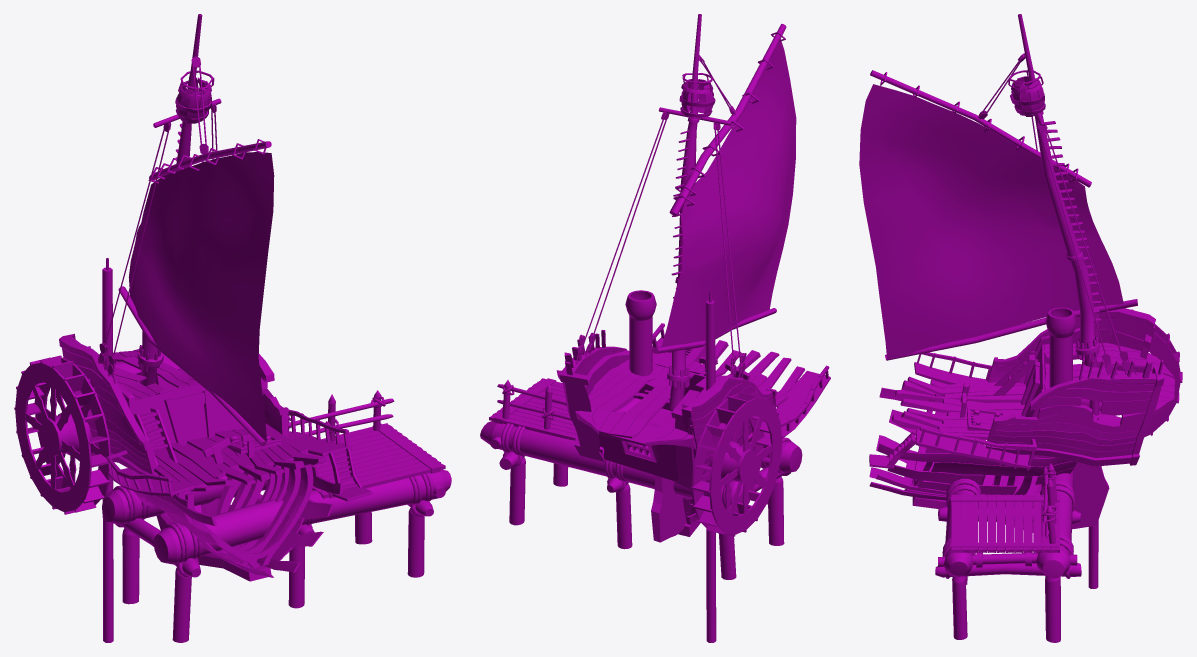
The model's file is Prefab_2.fbx.
3 views of the same model, side by side, from view 1: azimuth 30°, elevation 25°; view 2: azimuth 150°, elevation 25°; view 3: azimuth 270°, elevation 25° (orthographic). The views are drawn at different scales.
Parts seen in each view (by area): view 1: Sail_2, Prefab_2_polySurface769, loading_dock2, Mill_Wooden, Prefab_2_Steel_Band1, polySurface1213, Fence_Wood1; view 2: Sail_2, Prefab_2_polySurface769, loading_dock2, Mill_Wooden, Prefab_2_Steel_Band1, polySurface1213, Chimney, Fence_Wood1; view 3: Sail_2, Prefab_2_polySurface769, loading_dock2, Prefab_2_Steel_Band1, Chimney, Mill_Wooden, polySurface1213, Fence_Wood1.
Boxes of the visible parts, x1,y1,x2,y2 form: Sail_2: (98,14,274,446); Prefab_2_polySurface769: (59,333,372,581); loading_dock2: (102,433,451,642); Mill_Wooden: (14,355,110,514); Prefab_2_Steel_Band1: (305,423,445,498); polySurface1213: (102,258,113,642); Fence_Wood1: (287,390,394,441); Sail_2: (576,14,796,409); Prefab_2_polySurface769: (556,323,830,542); loading_dock2: (480,421,802,579); Mill_Wooden: (691,392,782,536); Prefab_2_Steel_Band1: (489,378,577,440); polySurface1213: (705,291,716,642); Chimney: (625,290,656,376); Fence_Wood1: (497,380,571,429); Sail_2: (859,14,1137,375); Prefab_2_polySurface769: (869,308,1174,532); loading_dock2: (935,442,1081,642); Prefab_2_Steel_Band1: (950,494,1059,552); Chimney: (1045,307,1077,387); Mill_Wooden: (1099,309,1182,437); polySurface1213: (1088,313,1099,588); Fence_Wood1: (1041,463,1057,543).
Bounding box in the file's own units: 19.98 × 38.54 × 18.94.
